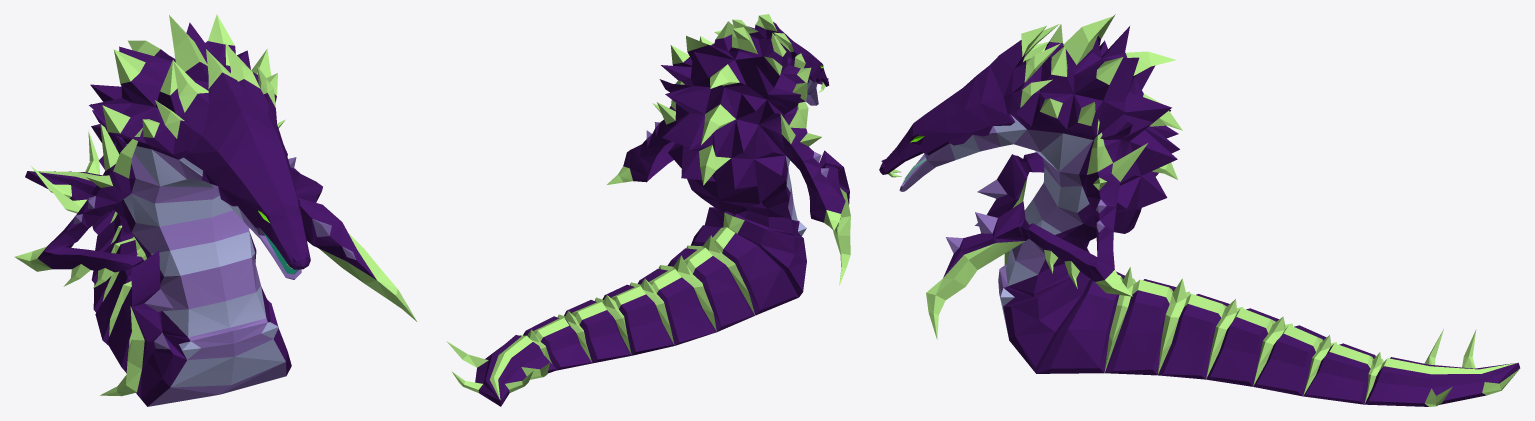
The model's file is Walk (22).obj.
The picture shows the model from 3 angles, left to right: view 1: azimuth 30°, elevation 25°; view 2: azimuth 150°, elevation 25°; view 3: azimuth 270°, elevation 25°; orthographic projection. The views are drawn at different scales.
Visible parts, largest first — view 1: Alien_Serpent; view 2: Alien_Serpent; view 3: Alien_Serpent.
Part boxes in pixels (x1=…): Alien_Serpent: x1=14, y1=14, x2=416, y2=406; Alien_Serpent: x1=446, y1=14, x2=850, y2=406; Alien_Serpent: x1=879, y1=14, x2=1520, y2=406.
Size of the model in its own units: 207 by 215 by 381.
Materials: 1 (1 with a texture image).
